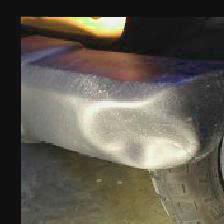bumper_dent: (71, 86, 223, 176)
